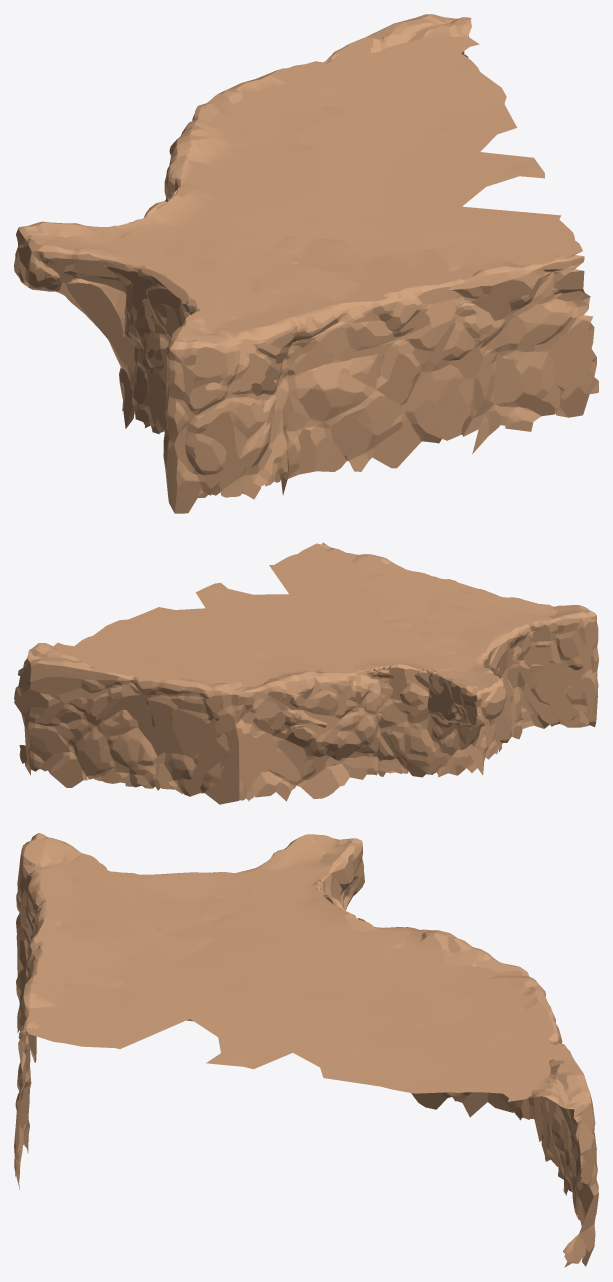
Rendered from SandstoneBig_Mesh_2_004LODs.fbx.
3 views of the same model, one above another, from view 1: azimuth 30°, elevation 25°; view 2: azimuth 150°, elevation 25°; view 3: azimuth 270°, elevation 25° (orthographic). The views are drawn at different scales.
Visible parts, largest first — view 1: Mesh_2.004_LOD0; view 2: Mesh_2.004_LOD0; view 3: Mesh_2.004_LOD0.
Part boxes in pixels (x1=…): Mesh_2.004_LOD0: x1=14, y1=14, x2=598, y2=513; Mesh_2.004_LOD0: x1=14, y1=542, x2=598, y2=804; Mesh_2.004_LOD0: x1=14, y1=833, x2=598, y2=1267.
Size of what is drawn, in the model's own units: 13518 by 4119 by 11810.
